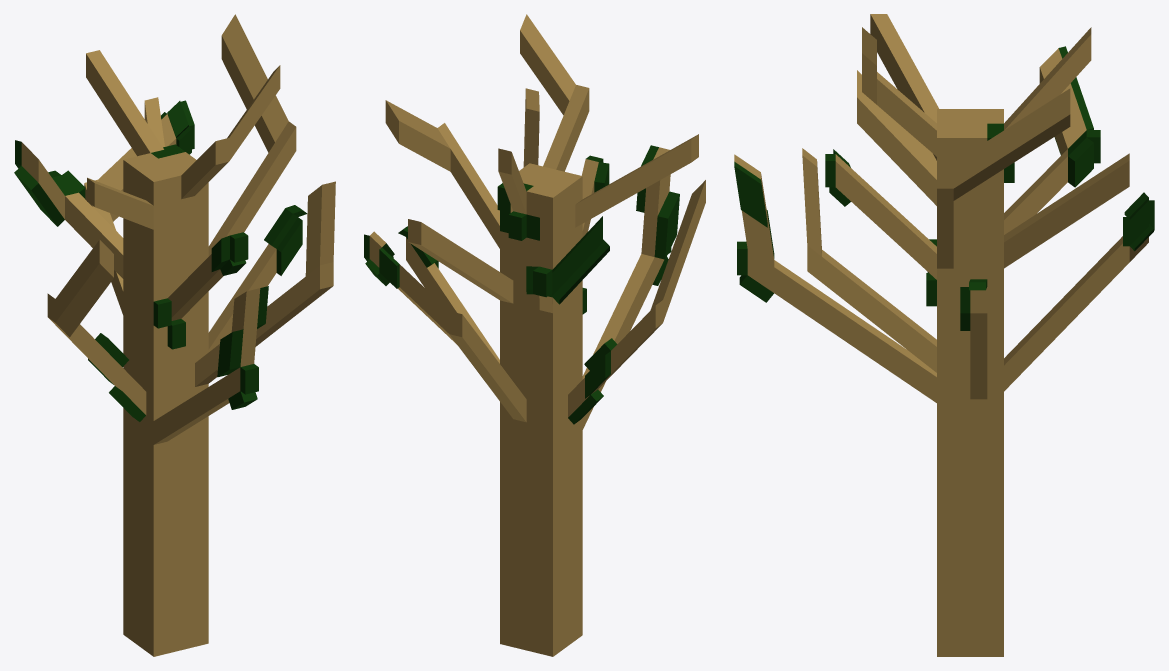
File: small_tree_model.obj
3 views of the same model, side by side, from view 1: azimuth 30°, elevation 25°; view 2: azimuth 150°, elevation 25°; view 3: azimuth 270°, elevation 25° (orthographic). The views are drawn at different scales.
Visible parts, largest first — view 1: Cube; view 2: Cube; view 3: Cube.
Boxes of the visible parts, left/top/right/bottom form: Cube: left=14, top=14, right=335, bottom=656; Cube: left=364, top=14, right=705, bottom=656; Cube: left=734, top=14, right=1154, bottom=656.
Bounding box in the file's own units: 2.89 × 6.32 × 3.71.
